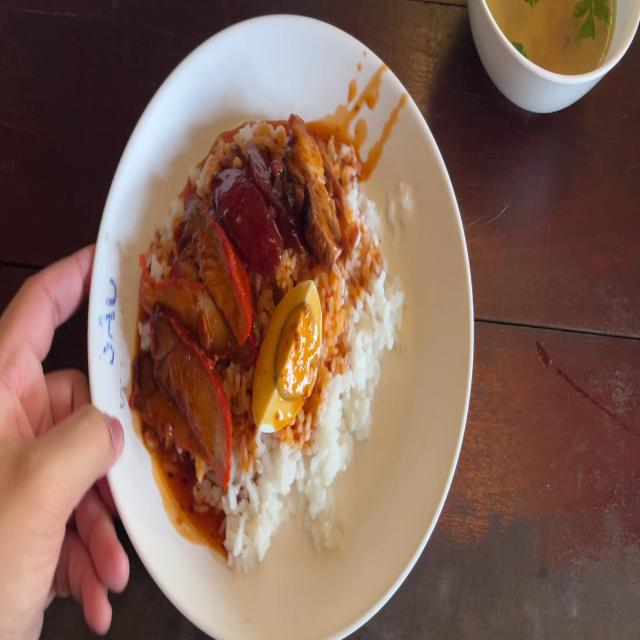01boiled_egg: (261, 281, 319, 426)
01chainese_sausage: (222, 142, 292, 262)
01crispy_pork: (293, 116, 336, 258)
01red_pork: (141, 208, 238, 488)
01red_pork_and_crispy_pork: (139, 114, 388, 519)
01rice: (236, 426, 342, 566), (336, 186, 385, 436)
